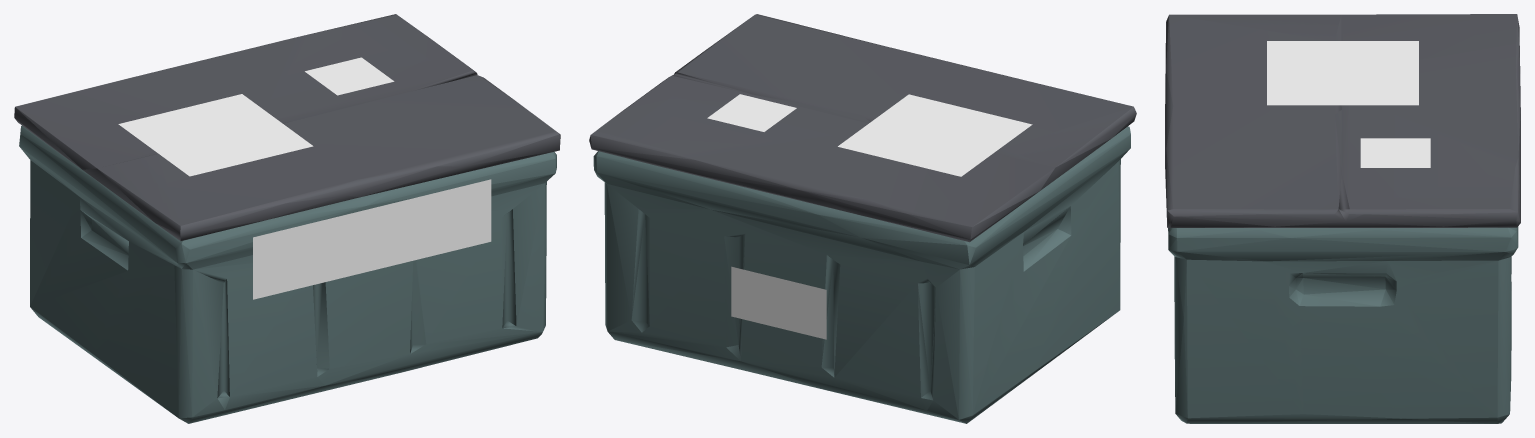
The model's file is caisse_m_a.glb.
3 renders of one model, left to right at view 1: azimuth 30°, elevation 25°; view 2: azimuth 150°, elevation 25°; view 3: azimuth 270°, elevation 25°, orthographic. The views are drawn at different scales.
Visible parts, largest first — view 1: caisse_m_a, caisse_m_a_decal; view 2: caisse_m_a, caisse_m_a_decal; view 3: caisse_m_a, caisse_m_a_decal.
Part boxes in pixels (bbox=[...]): caisse_m_a: bbox=[14, 14, 560, 423]; caisse_m_a_decal: bbox=[118, 57, 491, 299]; caisse_m_a: bbox=[589, 14, 1136, 423]; caisse_m_a_decal: bbox=[707, 94, 1032, 339]; caisse_m_a: bbox=[1165, 14, 1520, 423]; caisse_m_a_decal: bbox=[1267, 41, 1430, 167].
Bounding box in the file's own units: 0.8068 × 0.4259 × 0.6081.
